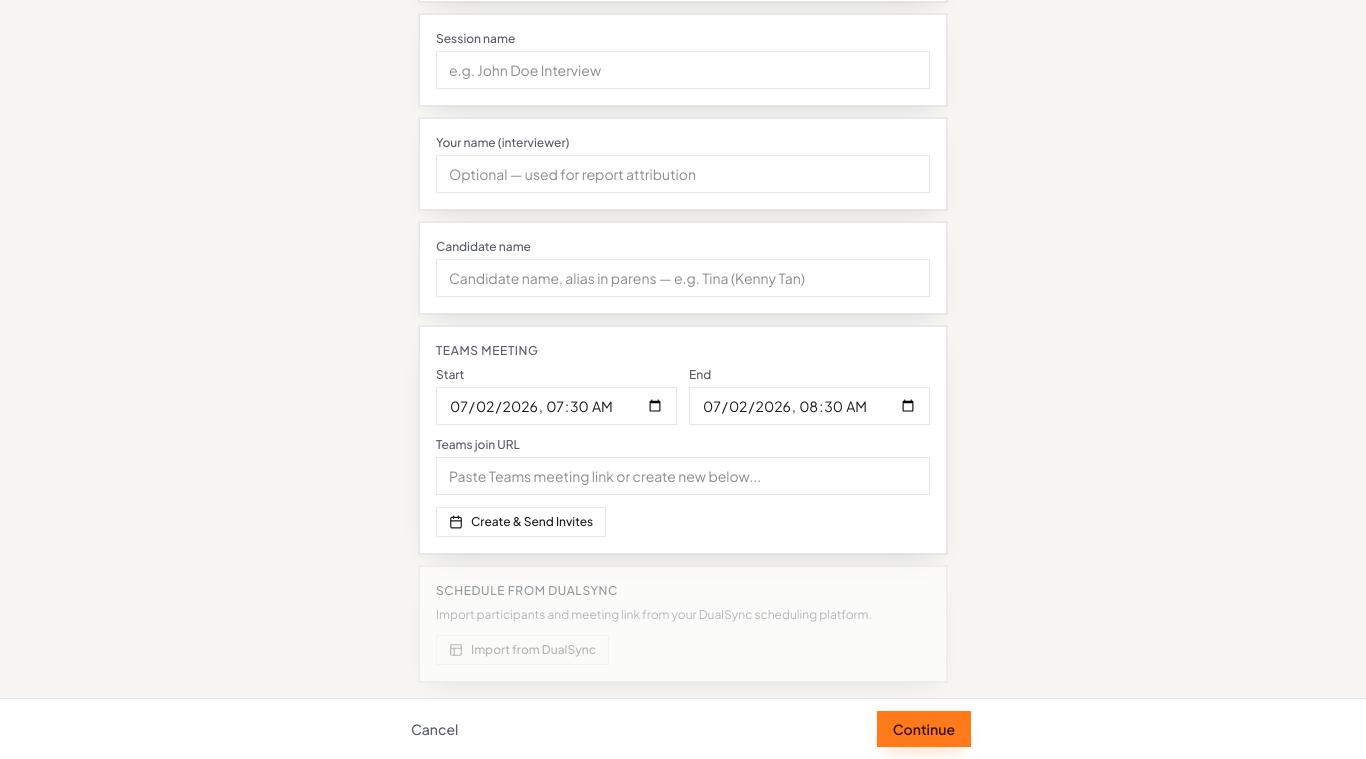
Test: SetupView Step 2 — Evaluation Rubric consolidation › shows the rubric label in English (no CJK) on the Review step
(page scrolled)
Click the button "Continue" at (924, 729), box x1=877 y1=711 x2=971 y2=747
(page scrolled)
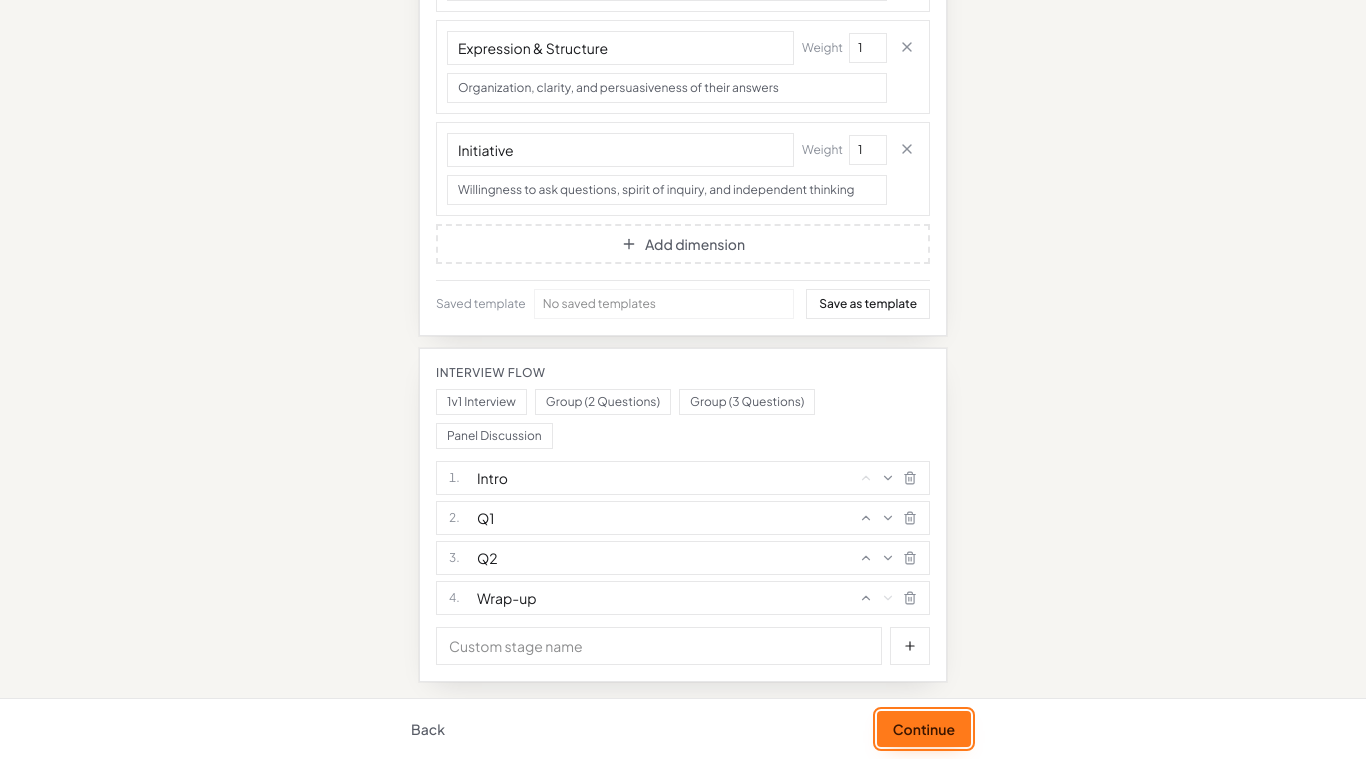
Click the button "Continue" at (924, 729), box x1=877 y1=711 x2=971 y2=747
(page scrolled)
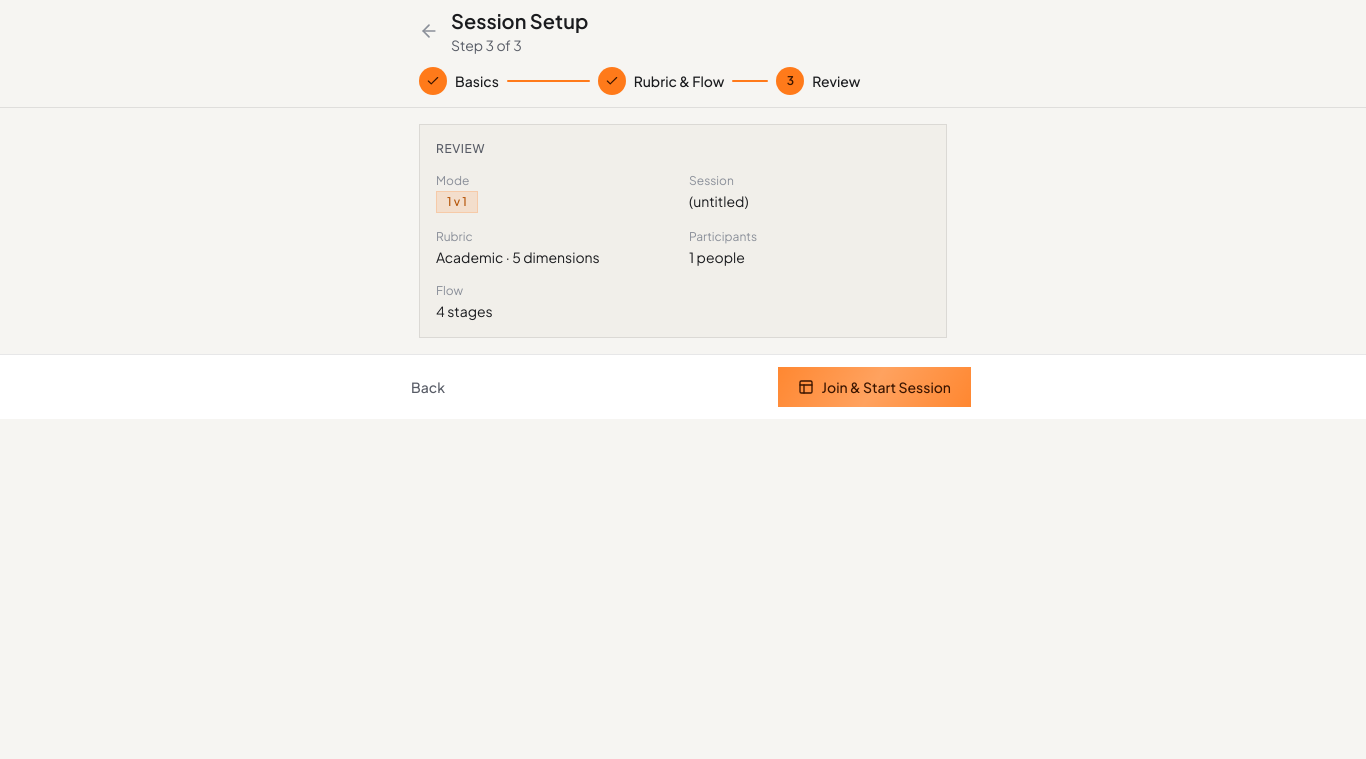
Result: the text "Rubric" is shown at x1=436 y1=229 x2=473 y2=244
Result: the text "Rubric" shows "Academic" at x1=436 y1=248 x2=503 y2=266
